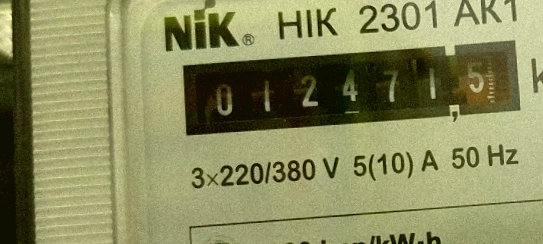0: (210, 79, 235, 117)
1: (259, 77, 273, 113), (424, 64, 437, 100)
2: (298, 72, 320, 109)
4: (339, 66, 359, 103)
5: (464, 56, 487, 95)
7: (378, 65, 401, 105)
screen: (170, 30, 533, 144)
